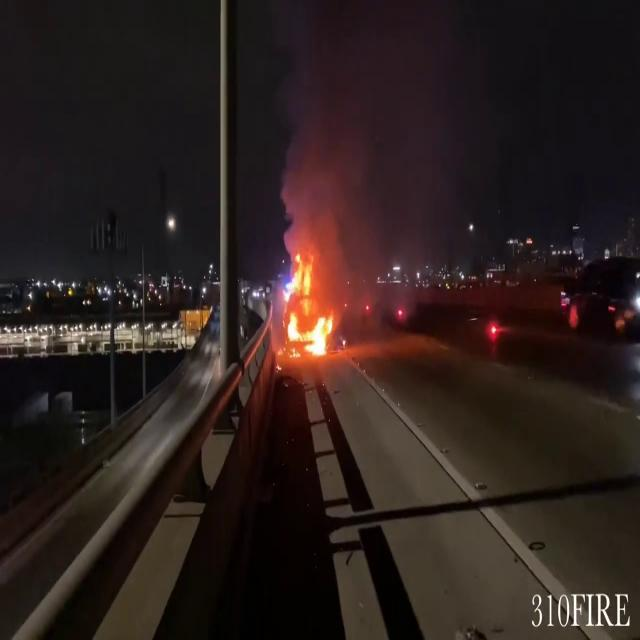Fire: (281, 250, 337, 360)
Smoke: (276, 2, 468, 270)
